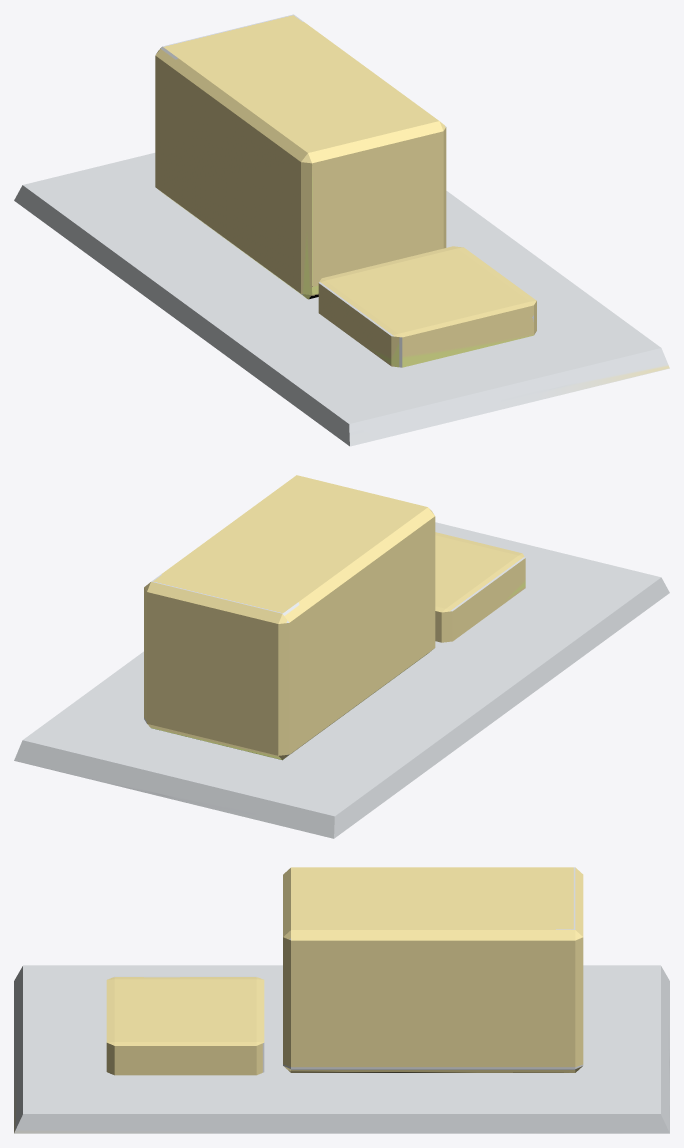
Rendered from butter.fbx.
3 views of the same model, one above another, from view 1: azimuth 30°, elevation 25°; view 2: azimuth 150°, elevation 25°; view 3: azimuth 270°, elevation 25° (orthographic). The views are drawn at different scales.
Visible parts, largest first — view 1: butter; view 2: butter; view 3: butter.
Boxes of the visible parts, <box> form: butter: <box>14,14,669,446</box>; butter: <box>14,475,669,838</box>; butter: <box>14,867,669,1133</box>.
Size of the model in its own units: 31.94 by 15.76 by 58.1.
Materials: 1 (1 with a texture image).
